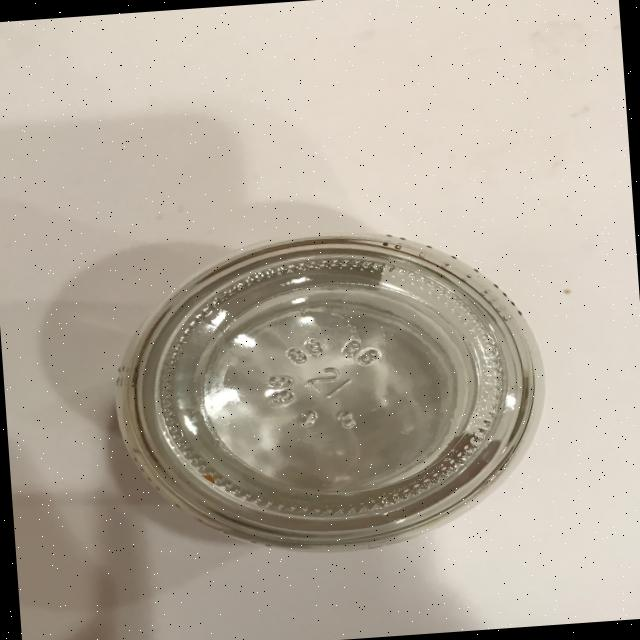glass: (104, 218, 556, 566)
